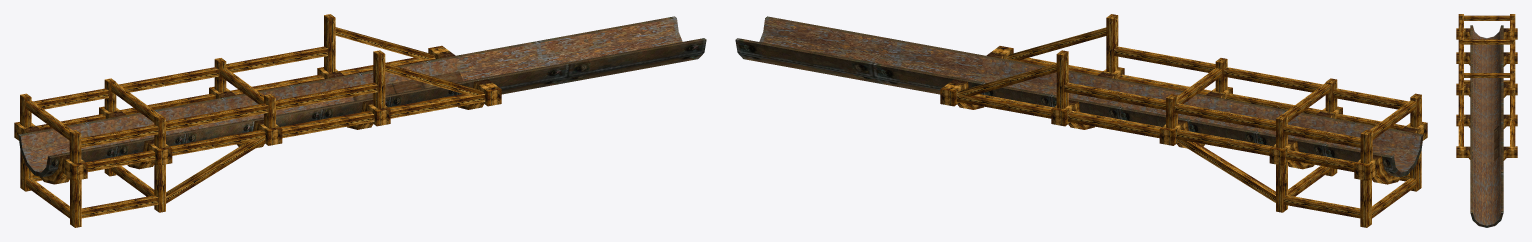
File: FORGE_WATERDRAIN.fbx
3 renders of one model, left to right at view 1: azimuth 30°, elevation 25°; view 2: azimuth 150°, elevation 25°; view 3: azimuth 270°, elevation 25°, orthographic. The views are drawn at different scales.
Parts seen in each view (by area): view 1: FORGE_WATERDRAIN; view 2: FORGE_WATERDRAIN; view 3: FORGE_WATERDRAIN.
Part boxes in pixels (<box>): FORGE_WATERDRAIN: <box>14,14,706,227</box>; FORGE_WATERDRAIN: <box>735,14,1427,227</box>; FORGE_WATERDRAIN: <box>1456,14,1517,227</box>.
Size of the model in its own units: 201961 by 30796 by 31669.
Materials: 5 (5 with a texture image).
